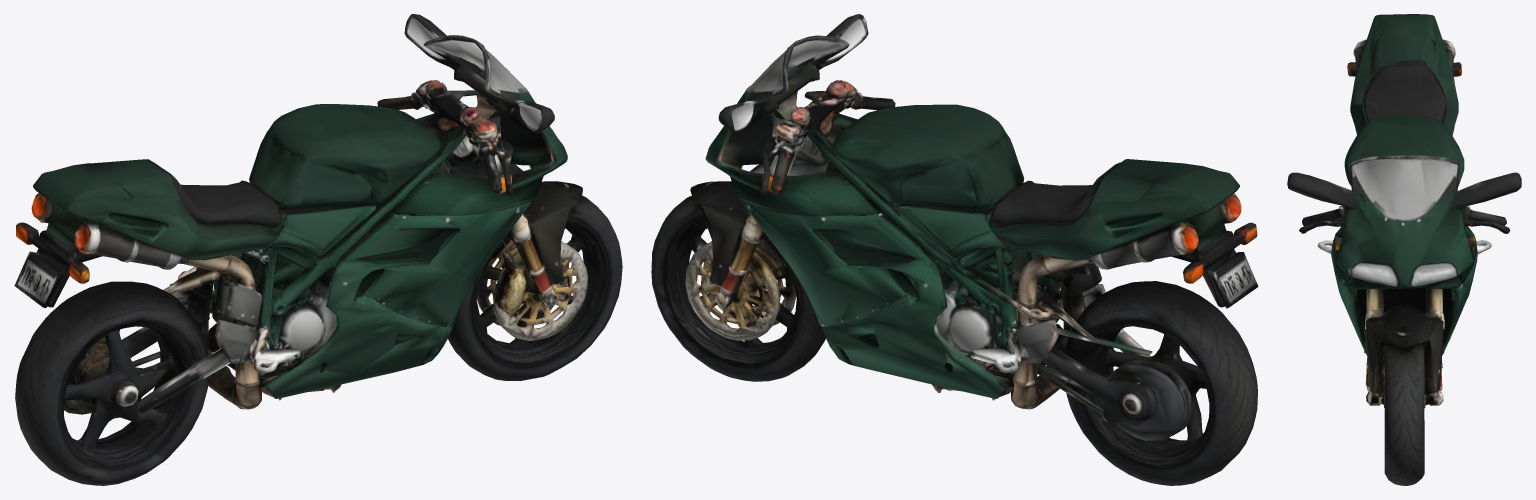
File: ducati.glb
3 renders of one model, left to right at view 1: azimuth 30°, elevation 25°; view 2: azimuth 150°, elevation 25°; view 3: azimuth 270°, elevation 25°, orthographic. The views are drawn at different scales.
Visible parts, largest first — view 1: node_0; view 2: node_0; view 3: node_0.
Boxes of the visible parts, bbox=[...] form: node_0: bbox=[14, 14, 622, 485]; node_0: bbox=[651, 14, 1258, 485]; node_0: bbox=[1287, 14, 1521, 485].
Bounding box in the file's own units: 1.15 × 0.6413 × 0.4521.
1 material, 1 textured.
